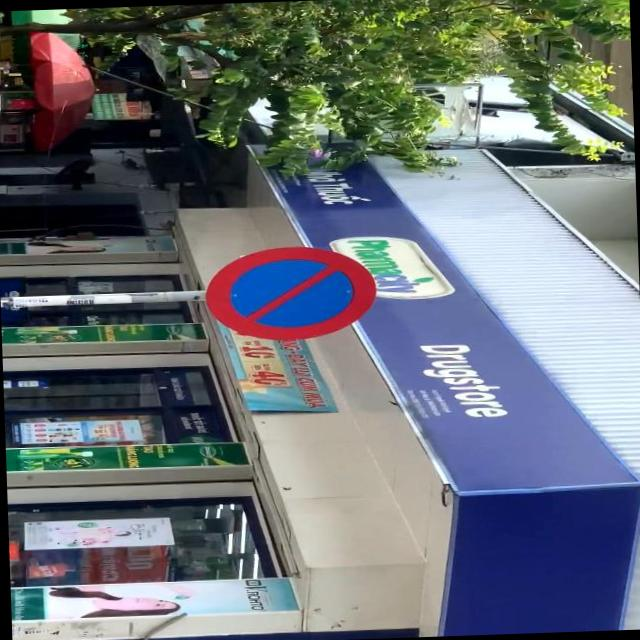P-131a: (205, 243, 375, 342)
